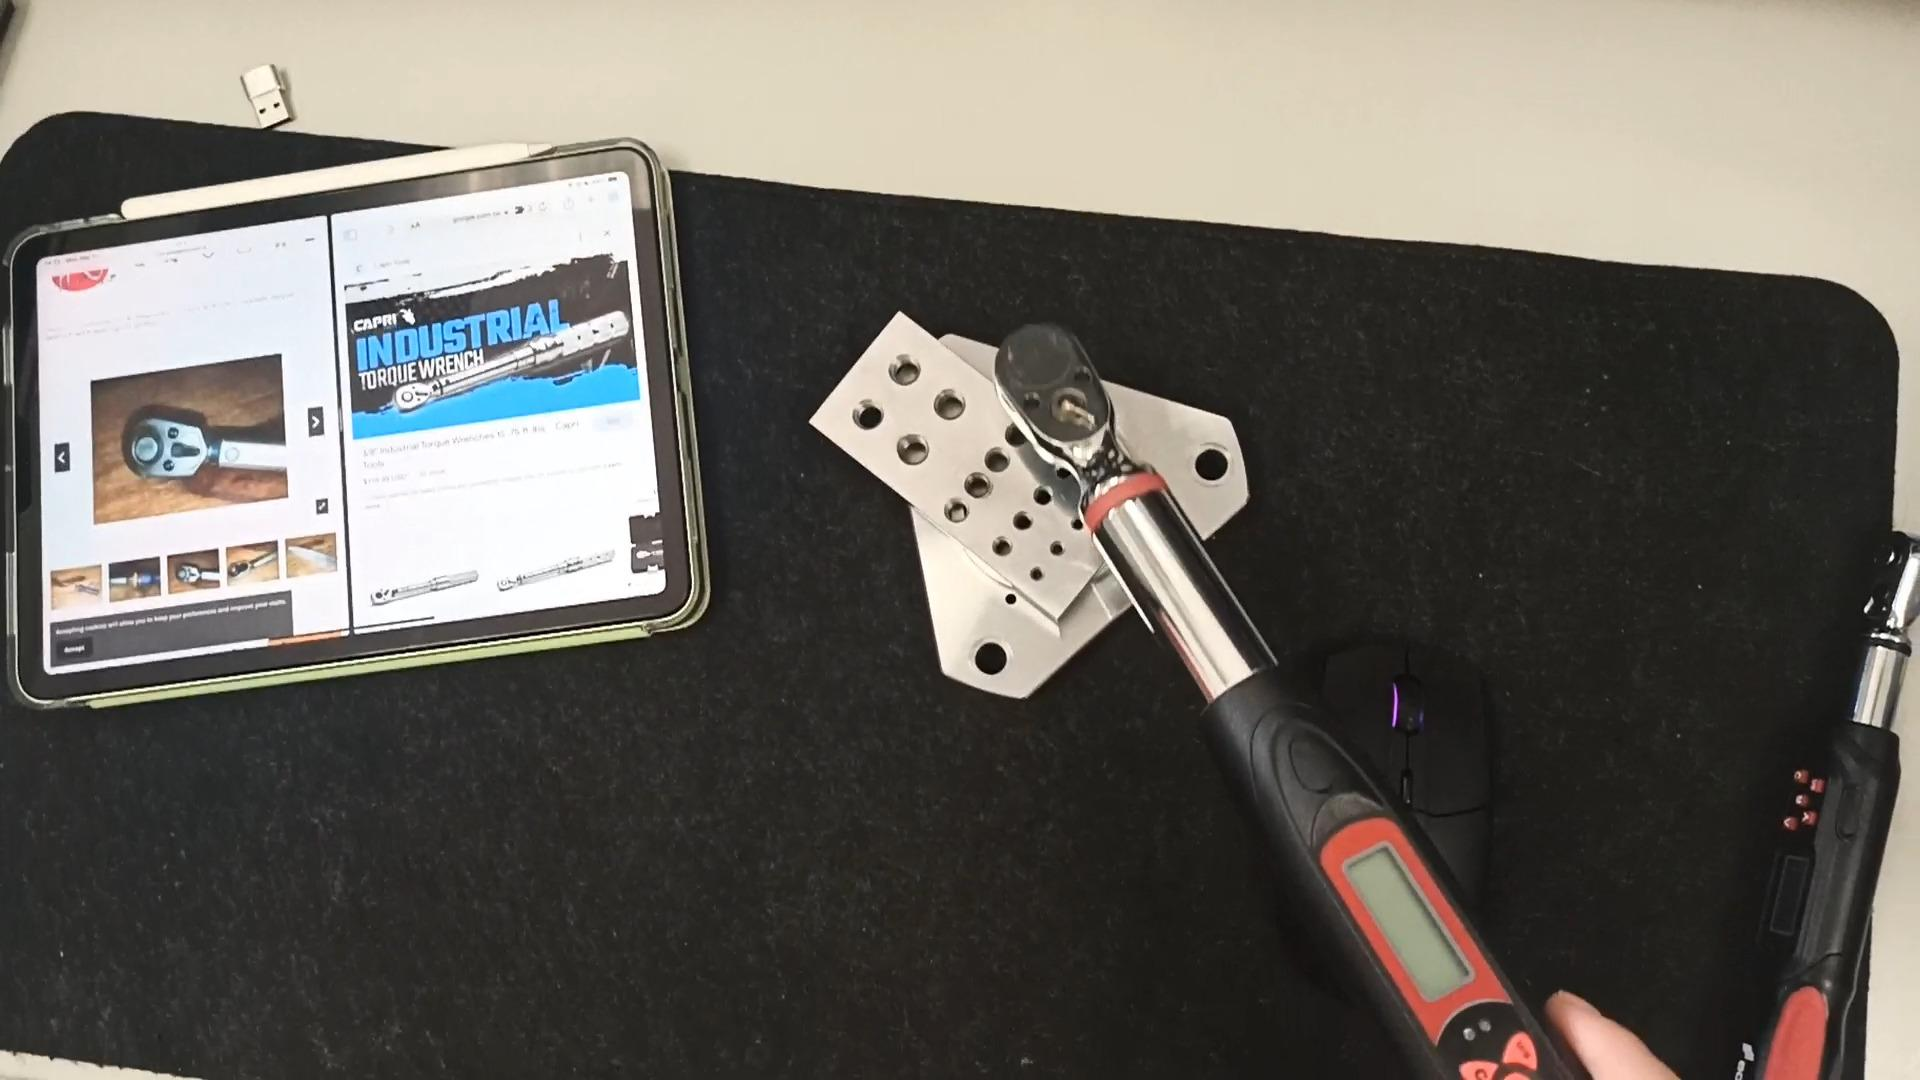Tool: (989, 311, 1120, 479), (1854, 508, 1920, 654), (116, 407, 208, 481), (392, 380, 438, 411)
hole: (1176, 446, 1238, 491), (947, 640, 1009, 682), (916, 389, 973, 427), (866, 356, 926, 392), (831, 400, 887, 436), (885, 435, 936, 471), (976, 448, 1019, 477), (949, 477, 993, 505), (1002, 417, 1031, 451), (931, 502, 971, 527), (981, 537, 1019, 560), (1002, 513, 1042, 535), (1042, 464, 1081, 487), (1023, 491, 1060, 512), (990, 589, 1027, 611), (1018, 568, 1050, 587), (1040, 541, 1072, 558)
